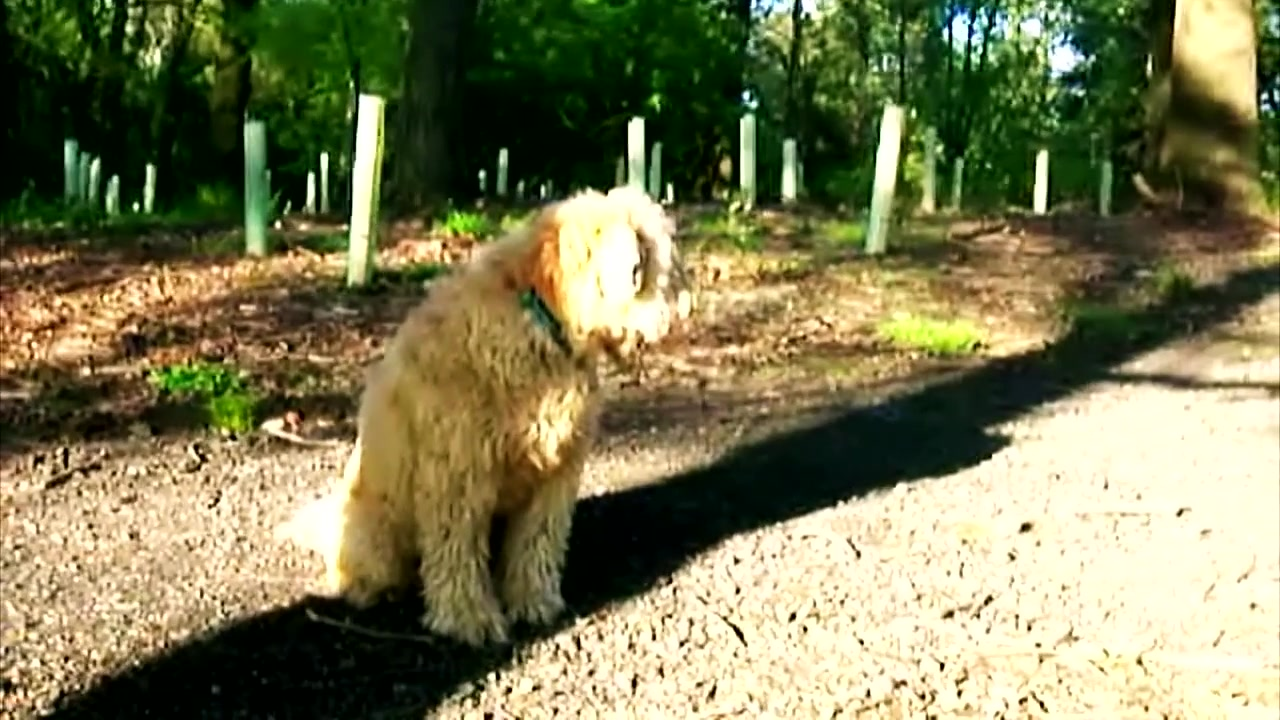dog: (267, 180, 698, 647)
